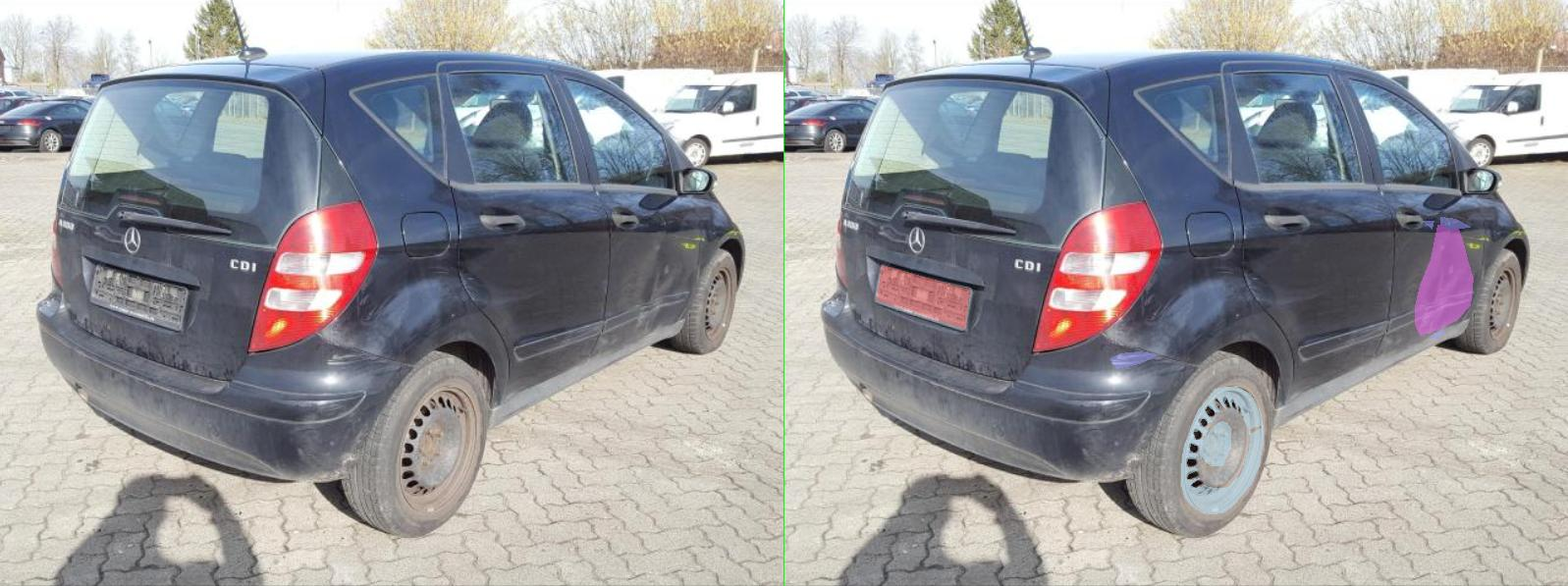Corrosion: (794, 387, 957, 513), (831, 421, 892, 465)
Dent: (1261, 225, 1377, 335)
Missing part: (185, 265, 369, 328)
Scratch: (650, 351, 747, 368), (1313, 217, 1372, 229), (1289, 331, 1322, 338), (1277, 221, 1299, 229)
